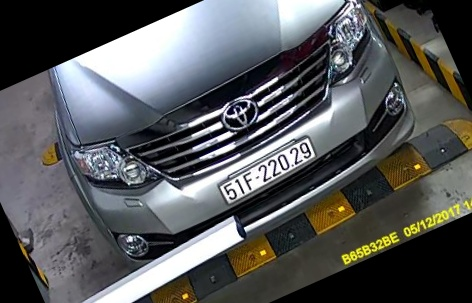plate: (218, 133, 318, 206)
